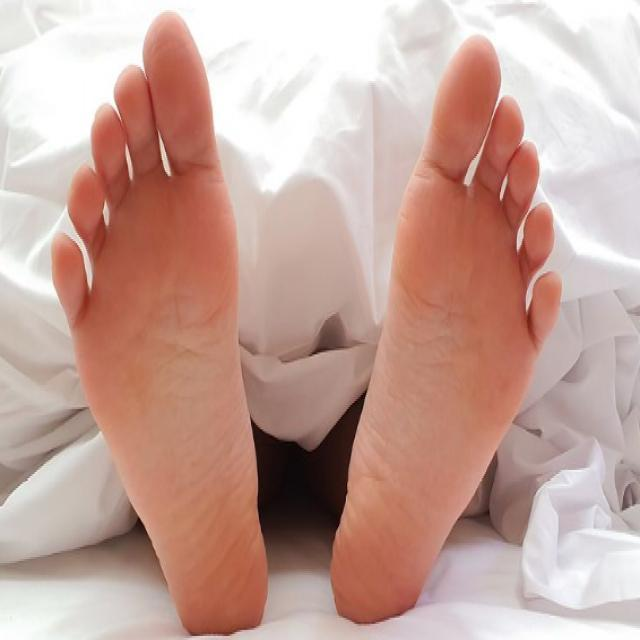No_Shoes: (45, 0, 269, 640), (350, 0, 547, 613)
